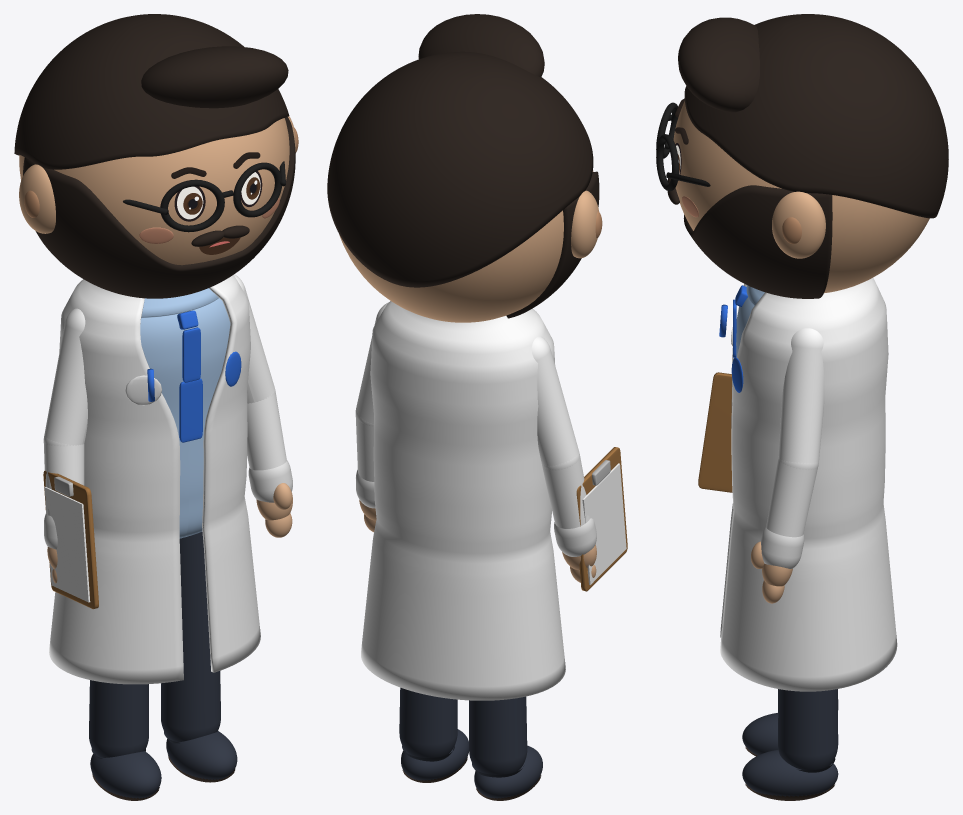
File: wetenschapper.glb
3 views of the same model, side by side, from view 1: azimuth 30°, elevation 25°; view 2: azimuth 150°, elevation 25°; view 3: azimuth 270°, elevation 25° (orthographic). The views are drawn at different scales.
Visible parts, largest first — view 1: wetenschapper_labjas, wetenschapper_haar, wetenschapper_hoofd, wetenschapper_baard, wetenschapper_romp, wetenschapper_been_L, wetenschapper_haar_kuif, wetenschapper_been_R, wetenschapper_bovenarm_R, wetenschapper_klembord_papier, wetenschapper_schoen_R, wetenschapper_schoen_L (+12 smaller); view 2: wetenschapper_labjas, wetenschapper_haar, wetenschapper_hoofd, wetenschapper_haar_kuif, wetenschapper_been_R, wetenschapper_bovenarm_R, wetenschapper_been_L, wetenschapper_klembord_papier, wetenschapper_onderarm_R, wetenschapper_baard, wetenschapper_schoen_R, wetenschapper_schoen_L (+5 smaller); view 3: wetenschapper_labjas, wetenschapper_haar, wetenschapper_hoofd, wetenschapper_baard, wetenschapper_haar_kuif, wetenschapper_bovenarm_L, wetenschapper_been_L, wetenschapper_klembord, wetenschapper_schoen_L, wetenschapper_onderarm_L, wetenschapper_oor_L, wetenschapper_manchet_L (+4 smaller).
Part boxes in pixels (x1,y1,x2,y2): wetenschapper_labjas: (49,275,260,684); wetenschapper_haar: (14,14,289,169); wetenschapper_hoofd: (19,118,289,265); wetenschapper_baard: (23,117,295,298); wetenschapper_romp: (140,298,230,538); wetenschapper_been_L: (161,532,220,742); wetenschapper_haar_kuif: (141,46,288,108); wetenschapper_been_R: (89,680,148,757); wetenschapper_bovenarm_R: (44,308,87,445); wetenschapper_klembord_papier: (44,487,90,602); wetenschapper_schoen_R: (90,751,161,798); wetenschapper_schoen_L: (166,731,237,779); wetenschapper_labjas: (361,301,565,700); wetenschapper_haar: (327,51,593,287); wetenschapper_hoofd: (339,170,593,322); wetenschapper_haar_kuif: (418,14,544,77); wetenschapper_been_R: (469,696,527,774); wetenschapper_bovenarm_R: (531,336,579,470); wetenschapper_been_L: (399,687,457,757); wetenschapper_klembord_papier: (582,463,626,584); wetenschapper_onderarm_R: (542,456,589,528); wetenschapper_baard: (506,171,599,318); wetenschapper_schoen_R: (474,745,542,798); wetenschapper_schoen_L: (401,729,469,780); wetenschapper_labjas: (720,278,897,691); wetenschapper_haar: (684,14,948,218); wetenschapper_hoofd: (673,101,929,293); wetenschapper_baard: (683,185,832,298); wetenschapper_haar_kuif: (678,17,759,112); wetenschapper_bovenarm_L: (778,328,824,469); wetenschapper_been_L: (778,689,838,770); wetenschapper_klembord: (698,372,732,492); wetenschapper_schoen_L: (742,749,838,796); wetenschapper_onderarm_L: (766,459,817,537); wetenschapper_oor_L: (772,191,825,258); wetenschapper_manchet_L: (761,526,804,568).
Bounding box in the file's own units: 0.6749 × 1.8 × 0.6327.
